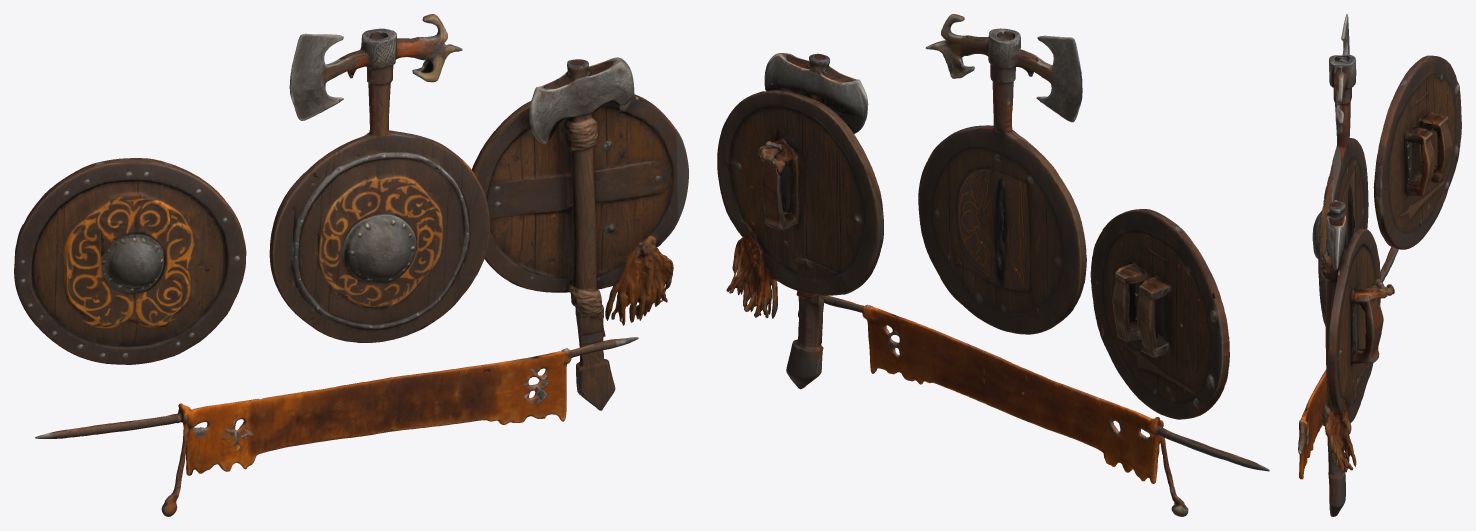
The model's file is A_set_of_Viking_theme_0721231038_texture.fbx.
3 renders of one model, left to right at view 1: azimuth 30°, elevation 25°; view 2: azimuth 150°, elevation 25°; view 3: azimuth 270°, elevation 25°, orthographic. The views are drawn at different scales.
Visible parts, largest first — view 1: Mesh_0; view 2: Mesh_0; view 3: Mesh_0.
Part boxes in pixels (<box>): Mesh_0: <box>14,14,688,516</box>; Mesh_0: <box>717,14,1269,516</box>; Mesh_0: <box>1298,14,1461,516</box>.
Size of the model in its own units: 200 by 143 by 53.48.
1 material, 1 textured.
